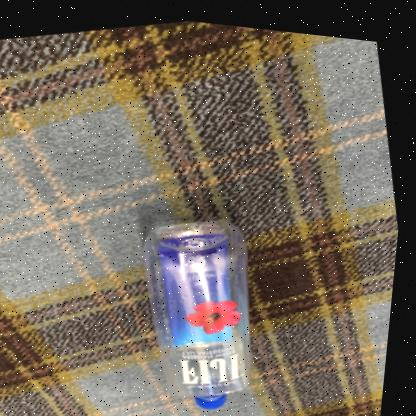Plastic: (148, 215, 258, 403)
